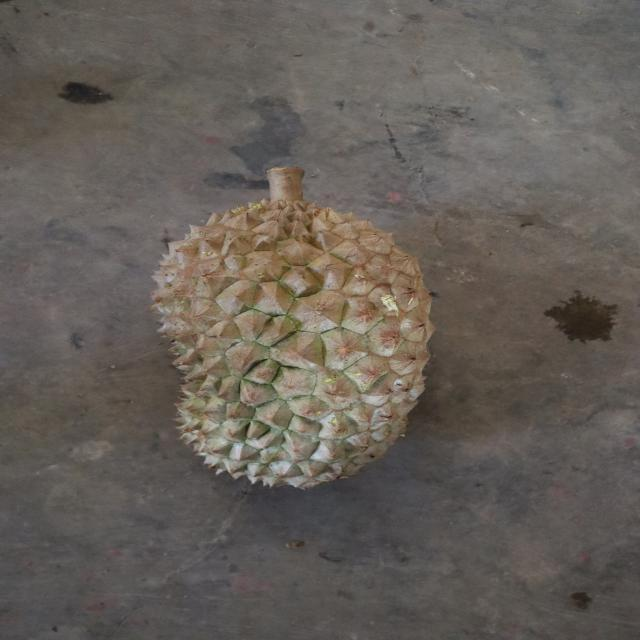mature: (149, 195, 439, 493)
